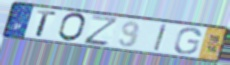9: (118, 20, 143, 48)
G: (172, 27, 203, 56)
I: (152, 23, 170, 53)
O: (56, 12, 87, 43)
T: (34, 9, 58, 38)
Z: (82, 14, 121, 48)
